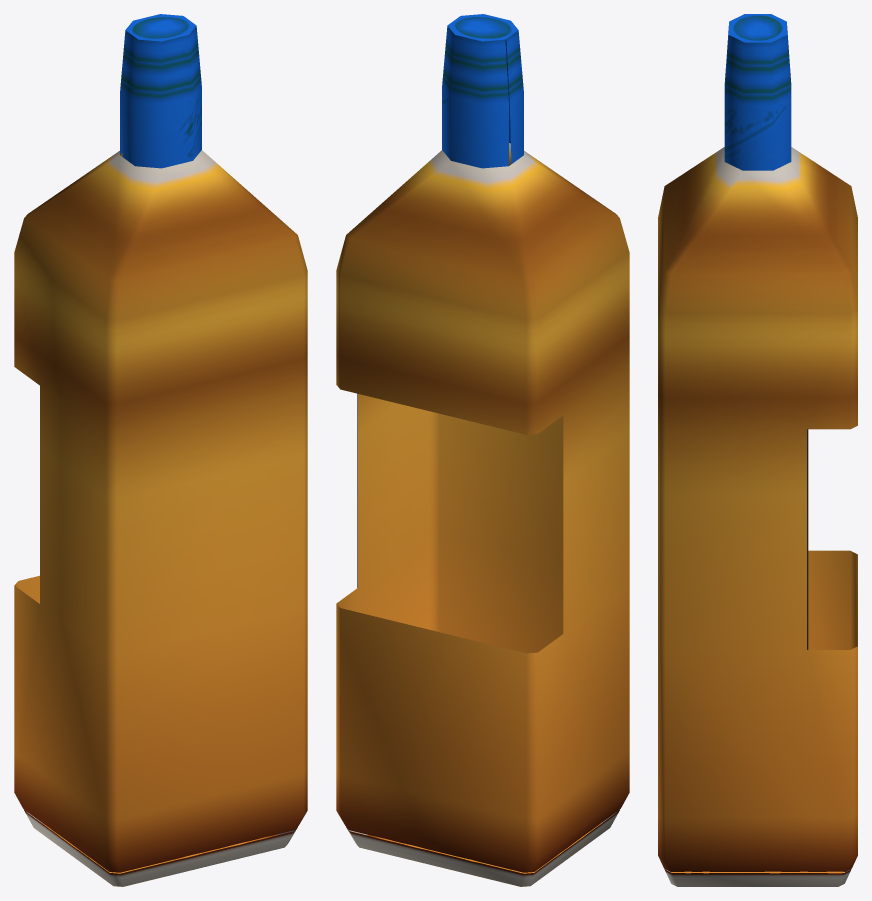
File: Bottle_Whisky1.fbx
3 views of the same model, side by side, from view 1: azimuth 30°, elevation 25°; view 2: azimuth 150°, elevation 25°; view 3: azimuth 270°, elevation 25° (orthographic).
Visible parts, largest first — view 1: Bottle_Whisky1; view 2: Bottle_Whisky1; view 3: Bottle_Whisky1.
Part boxes in pixels (x1,y1,x2,y2): Bottle_Whisky1: (14,14,307,886); Bottle_Whisky1: (336,14,629,886); Bottle_Whisky1: (658,14,857,886).
Bounding box in the file's own units: 7.85 × 30.1 × 6.69.
